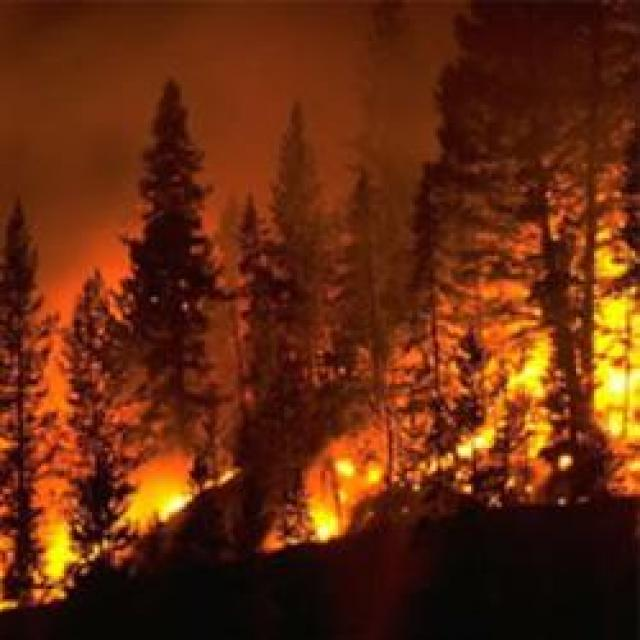fire: (589, 332, 640, 468), (278, 482, 352, 546), (116, 480, 188, 518), (32, 526, 78, 578)
smoke: (116, 104, 332, 274), (368, 287, 452, 363), (41, 241, 107, 335)
